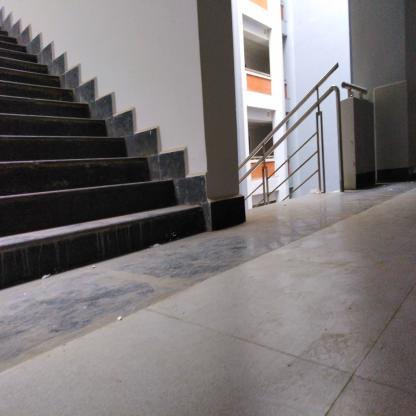stairs: (2, 55, 48, 291)
